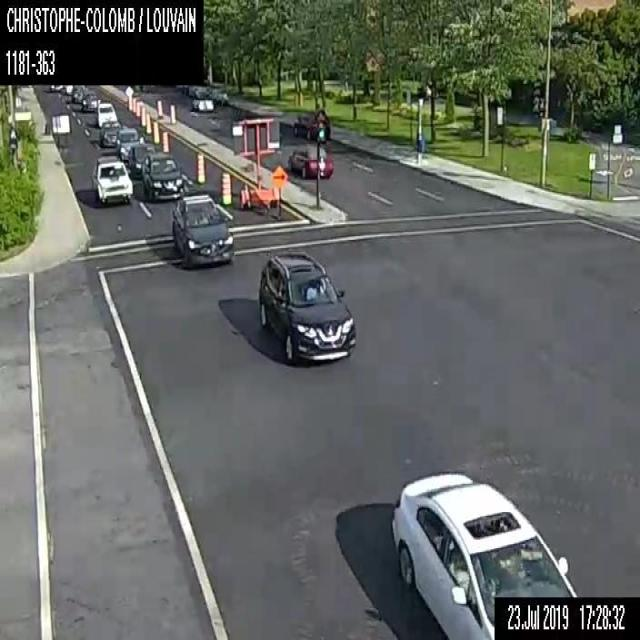construction: (231, 116, 279, 212), (271, 164, 287, 220), (51, 113, 71, 145), (220, 172, 230, 204), (196, 152, 204, 183), (152, 121, 159, 145), (168, 104, 176, 124), (161, 130, 168, 151), (145, 112, 151, 136), (156, 99, 163, 116), (140, 106, 145, 126), (126, 95, 132, 109), (135, 101, 140, 117), (131, 98, 136, 112)
vehicle: (390, 471, 577, 638), (258, 249, 355, 364), (172, 192, 233, 266), (142, 152, 183, 198), (92, 155, 132, 200), (288, 144, 333, 178), (128, 143, 156, 175), (115, 127, 143, 158), (292, 115, 329, 138), (99, 120, 122, 146), (96, 101, 117, 125), (82, 91, 100, 109), (209, 87, 228, 104), (192, 94, 212, 110), (70, 85, 85, 101), (188, 84, 206, 95), (174, 82, 188, 92)
